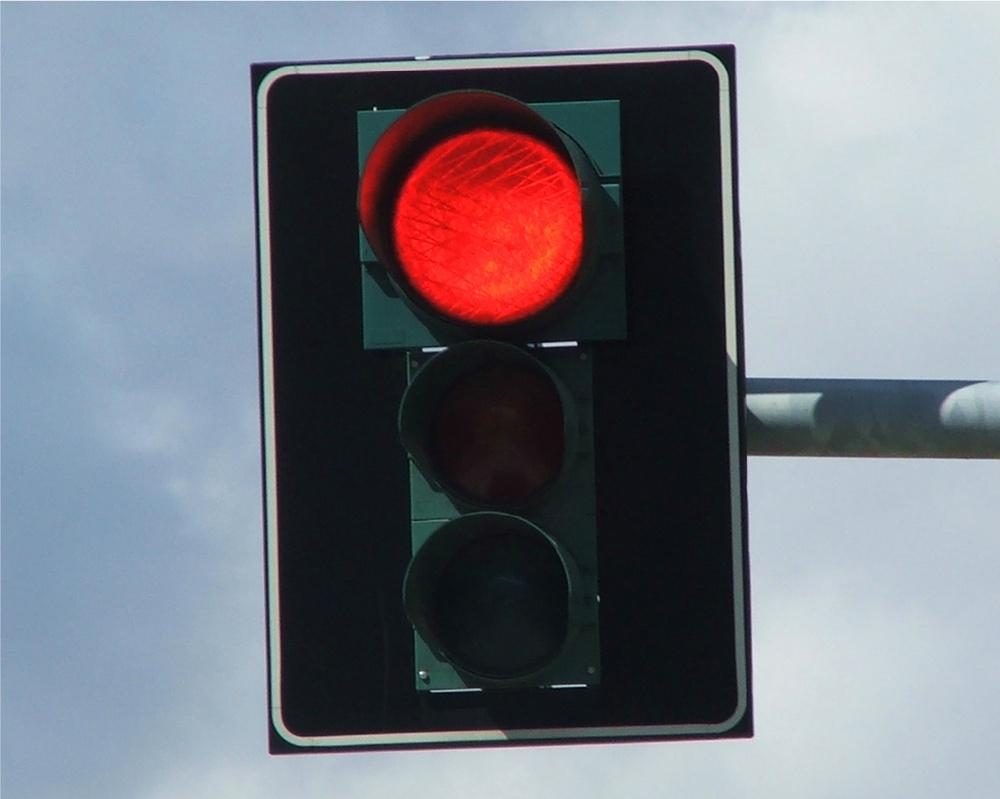red: (262, 54, 772, 748)
